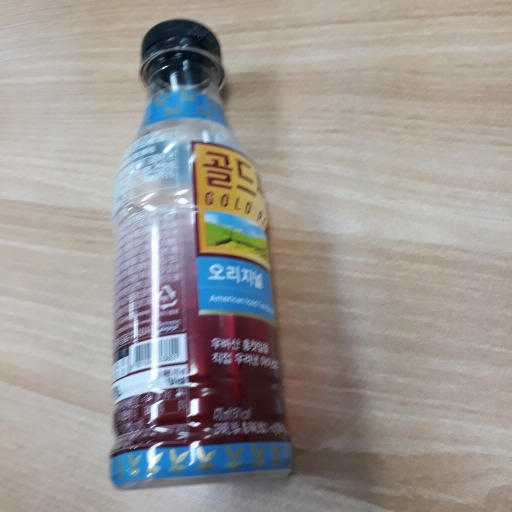Plastic_0: (109, 19, 297, 492)
